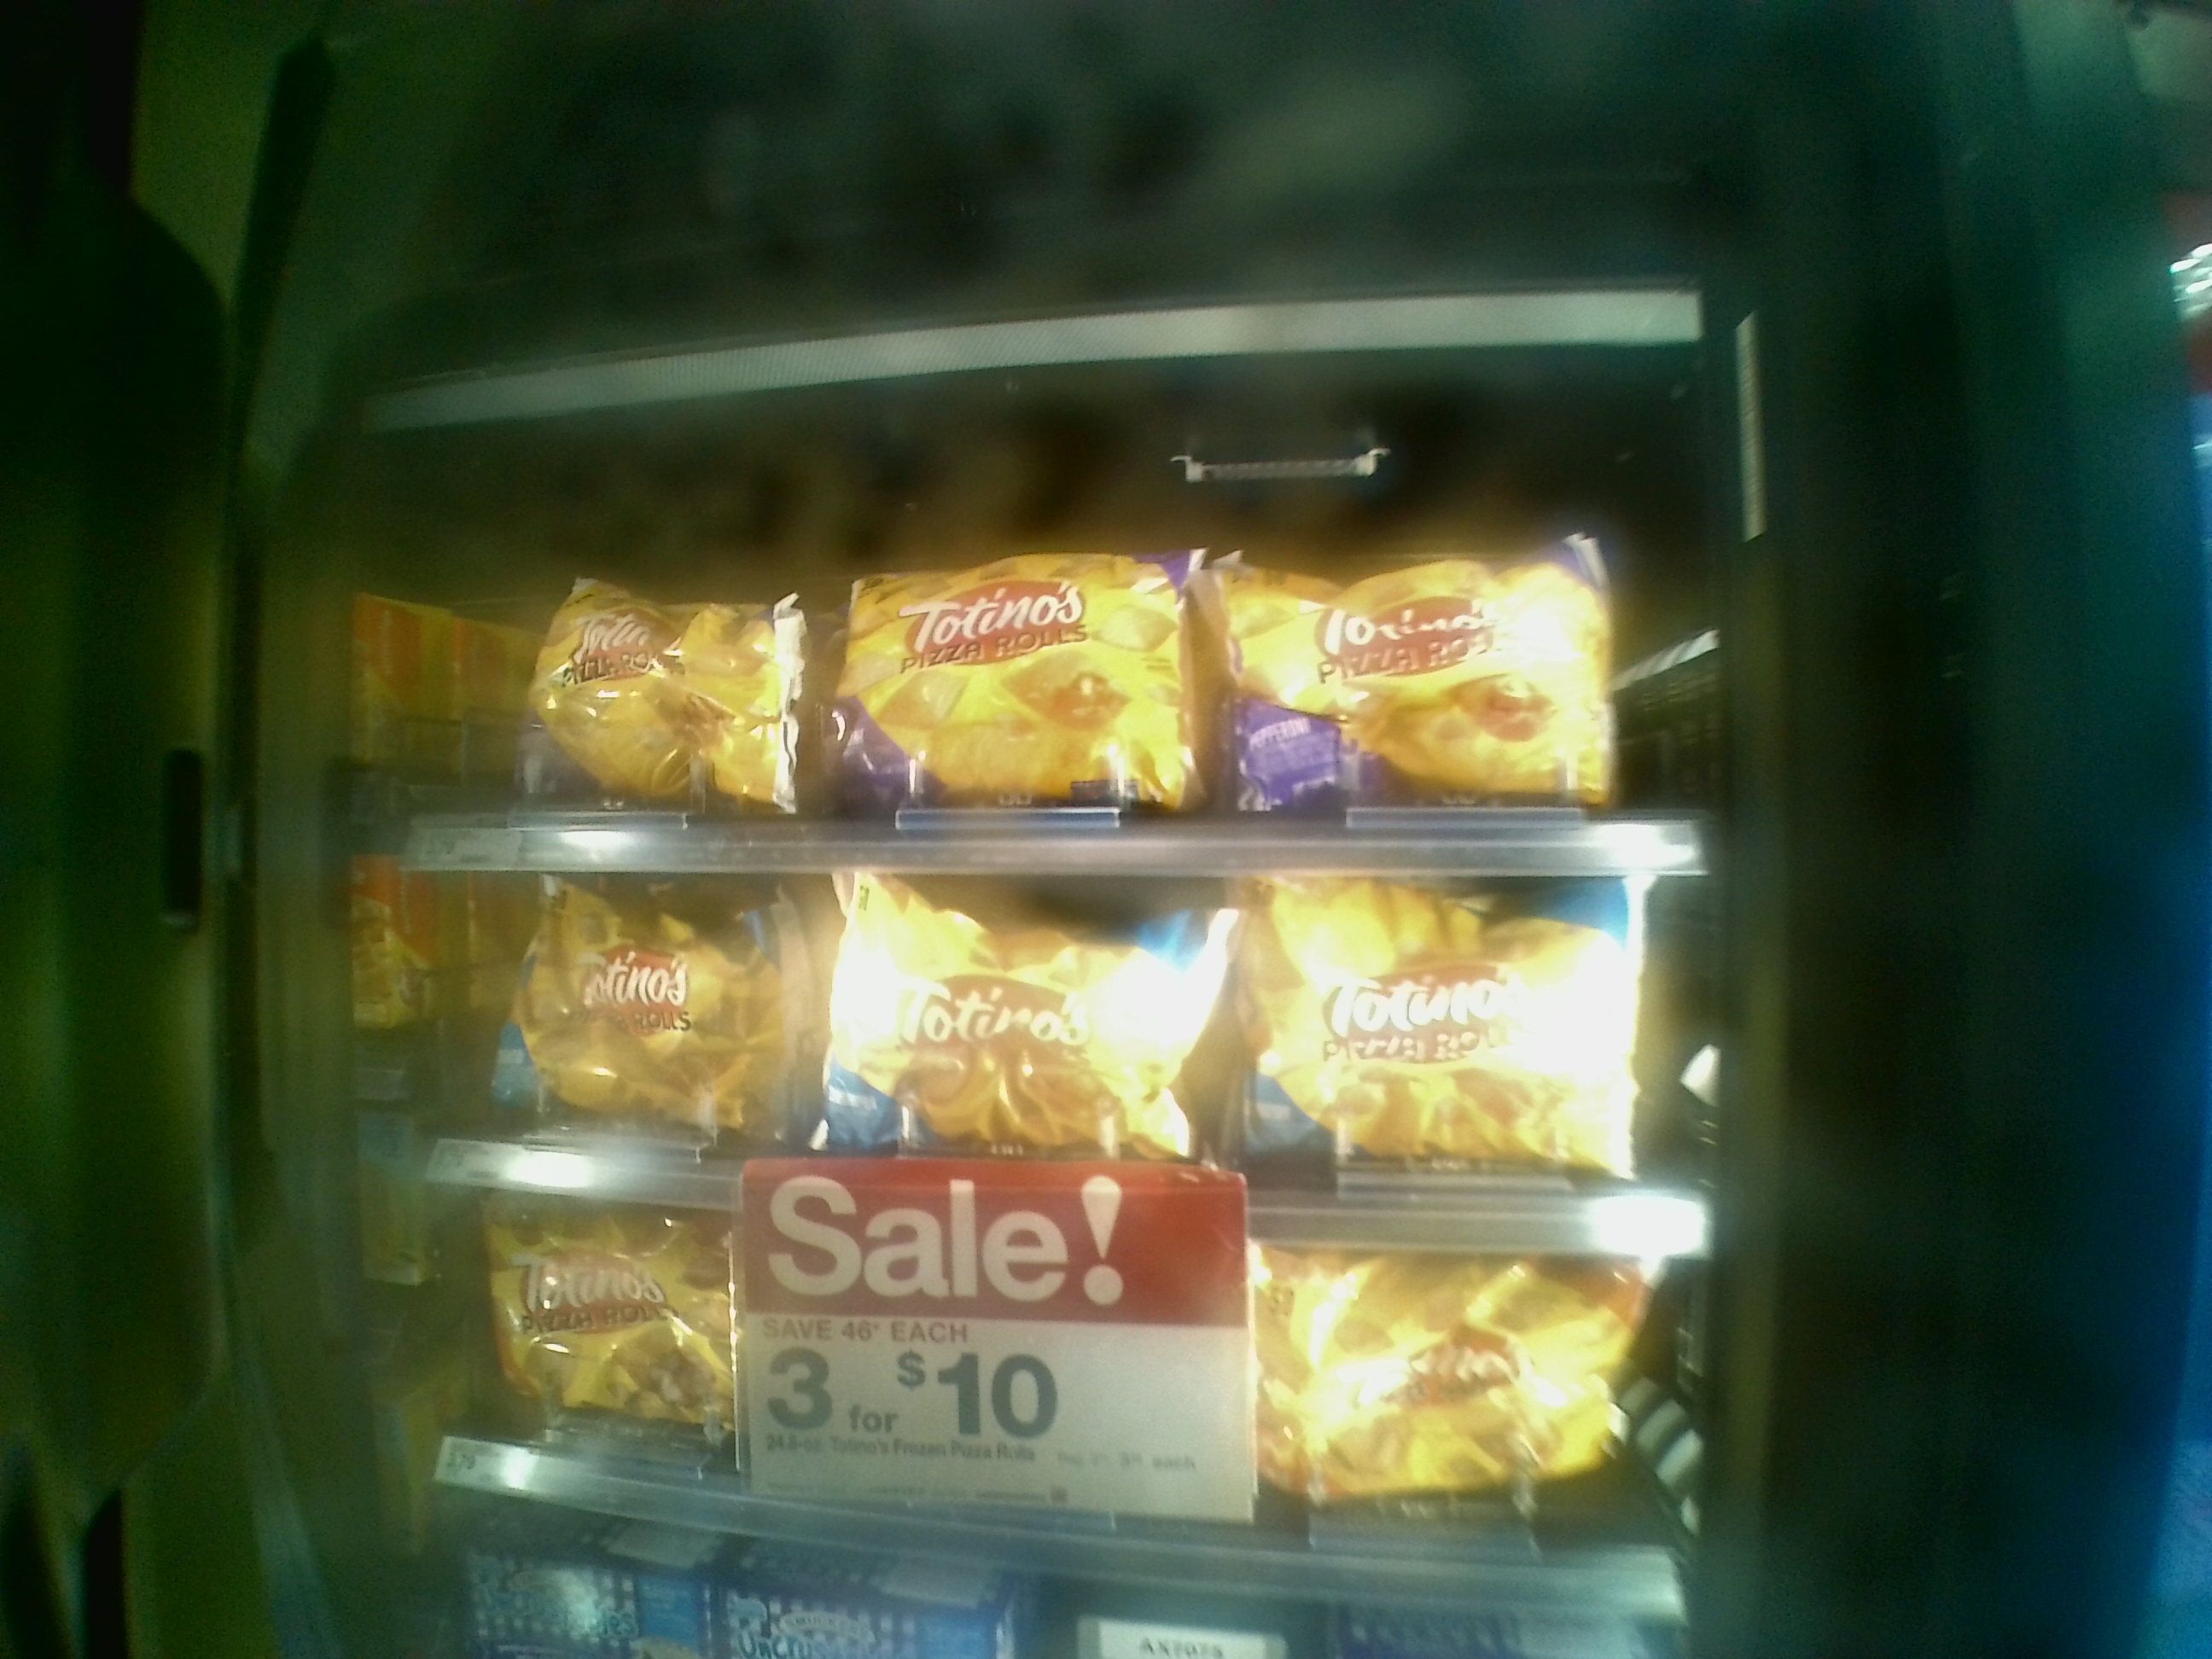shelf: (291, 1176, 1700, 1614), (347, 450, 1700, 877), (324, 878, 1707, 1256)
